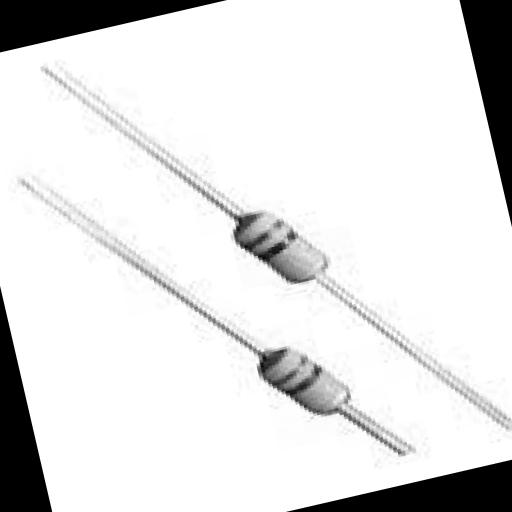RESISTOR: (162, 322, 387, 475), (175, 186, 349, 326)
